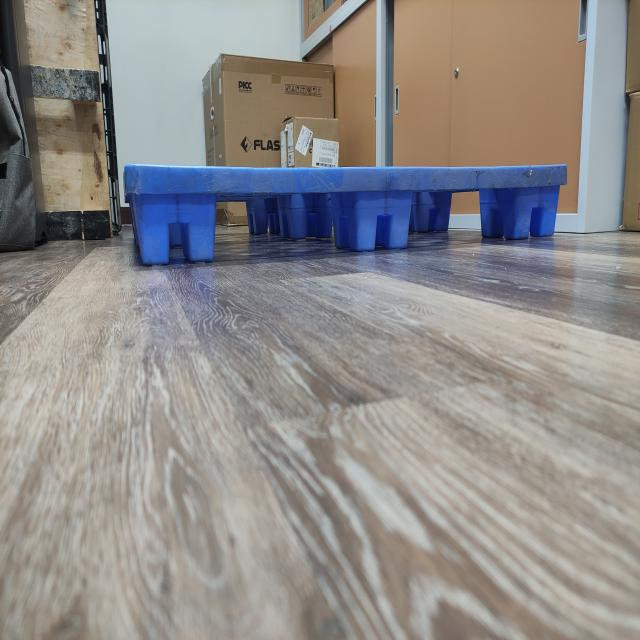block: (133, 192, 218, 266), (355, 194, 416, 253), (515, 185, 564, 244)
front: (120, 162, 571, 267)
